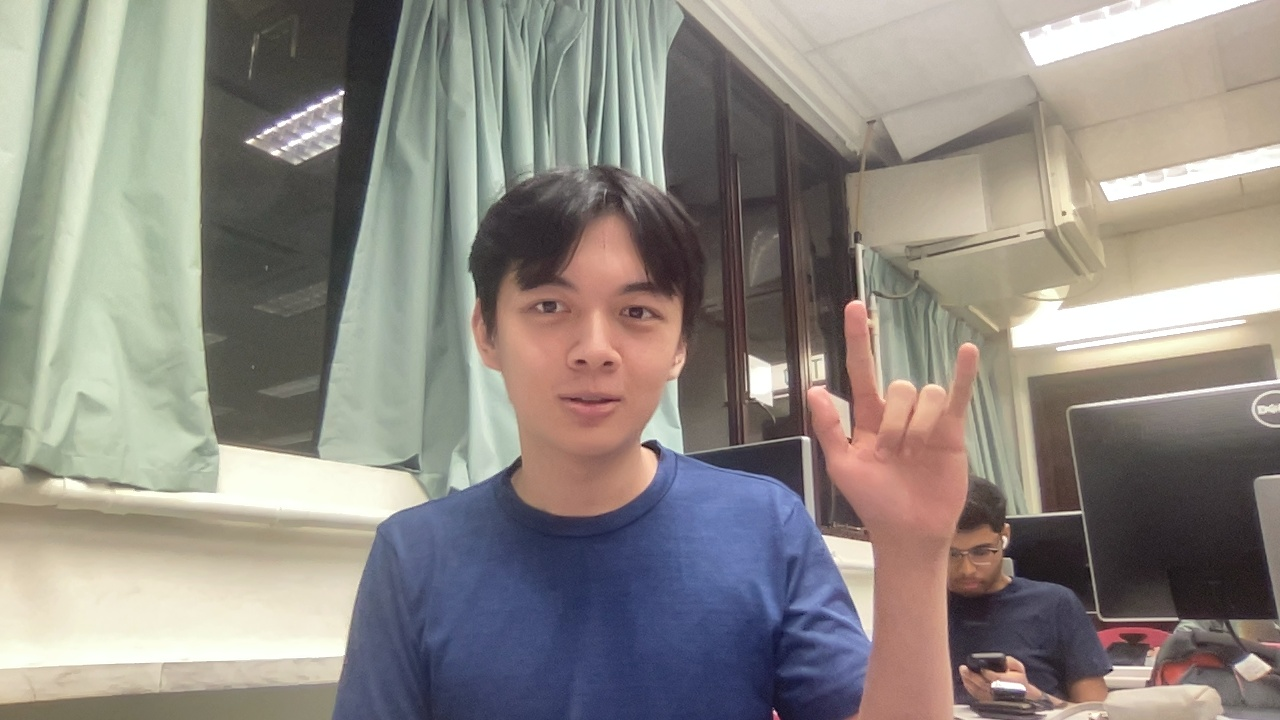iloveyou: (769, 281, 1094, 588)
